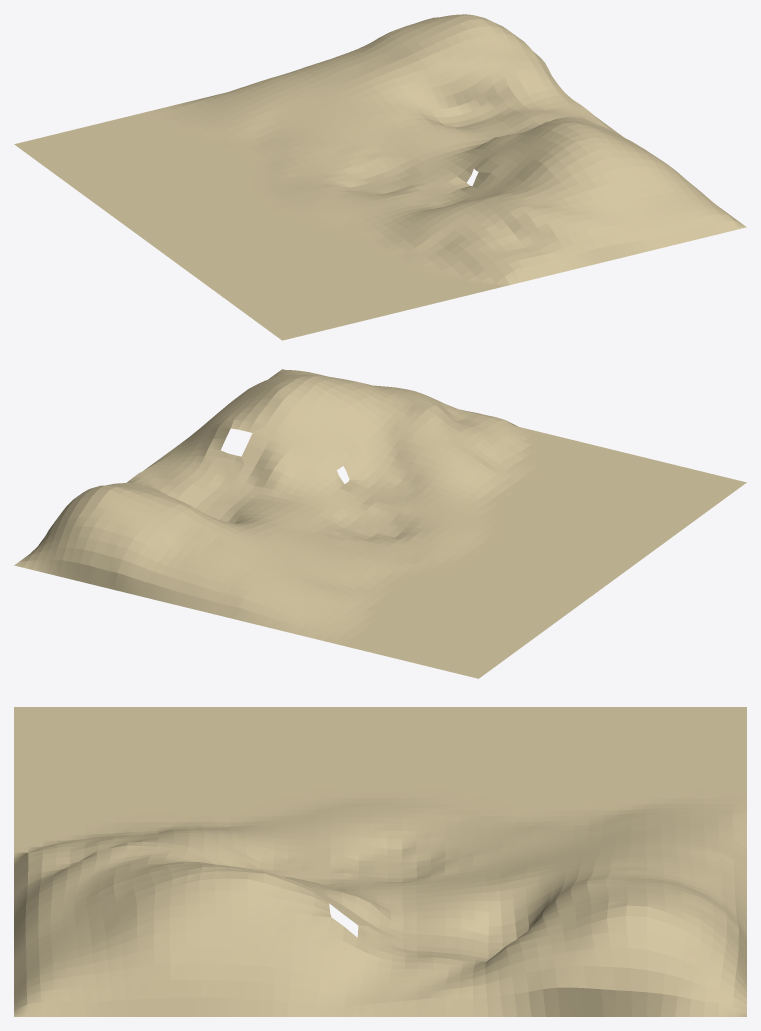
File: Ground.fbx
3 renders of one model, top to bottom at view 1: azimuth 30°, elevation 25°; view 2: azimuth 150°, elevation 25°; view 3: azimuth 270°, elevation 25°, orthographic. The views are drawn at different scales.
Parts seen in each view (by area): view 1: Ground; view 2: Ground; view 3: Ground.
Boxes of the visible parts, bbox=[...] form: Ground: bbox=[14, 14, 746, 340]; Ground: bbox=[14, 369, 746, 678]; Ground: bbox=[14, 707, 746, 1016].
Bounding box in the file's own units: 30591 × 4009 × 30591.
